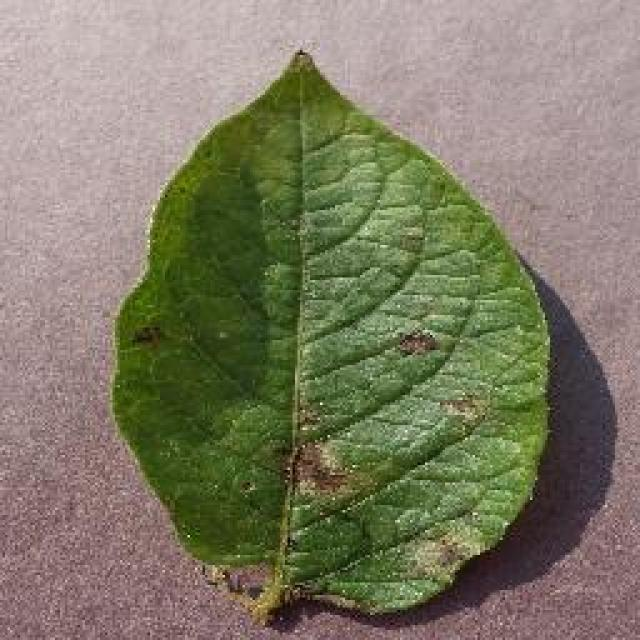late_blight: (105, 45, 555, 623)
